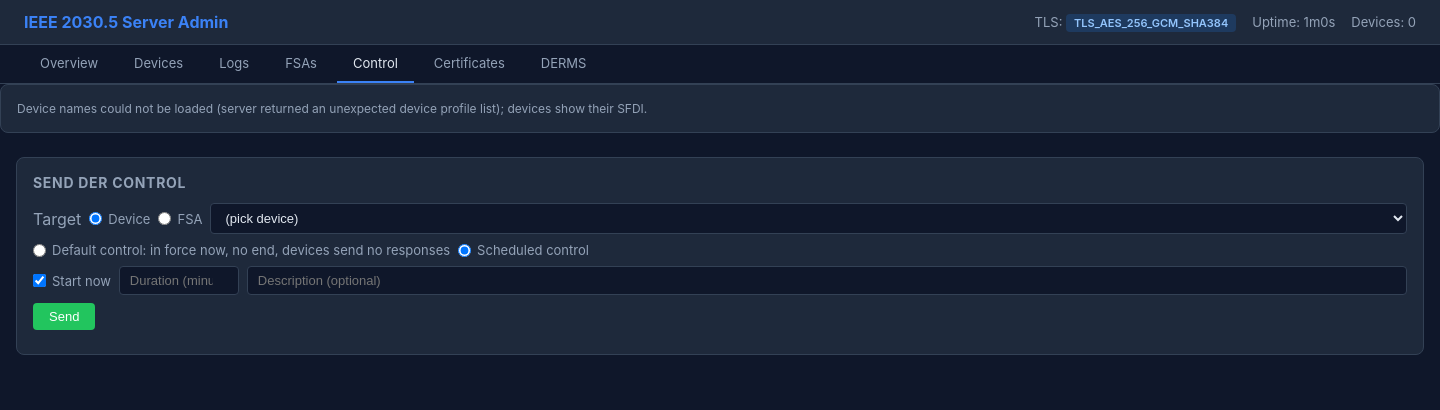
FSAs on the Control tab › a hard load onto the Control tab offers the FSAs
Check: the dropdown with id "controlDevice" is shown, box [210,203,1407,234]
Click the radio button with test id "control-target-fsa": (165, 218) [158,212,172,225]
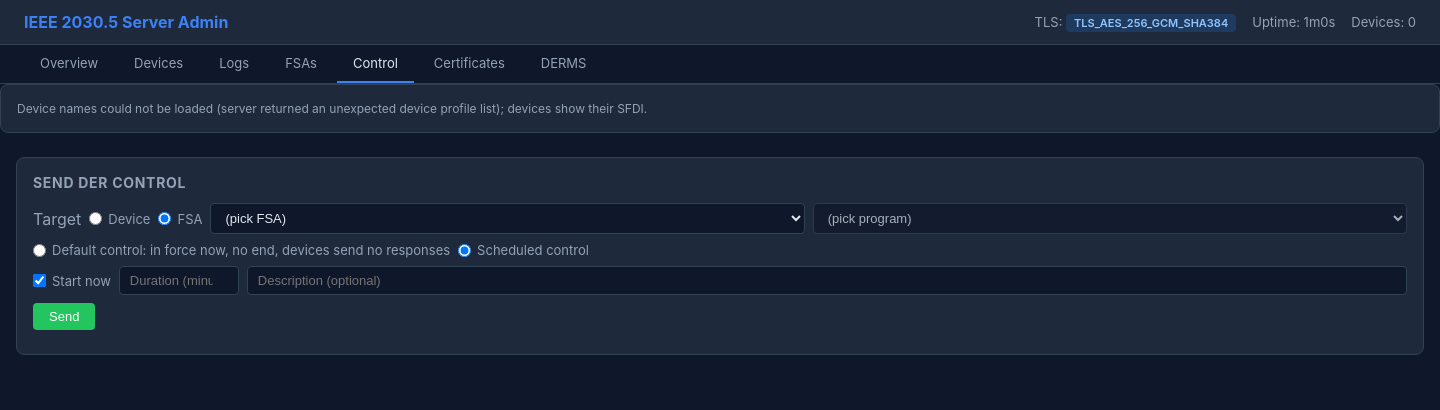
Select "feeder A" in the dropdown with id "controlFsa": (508, 218) [210,203,805,234]
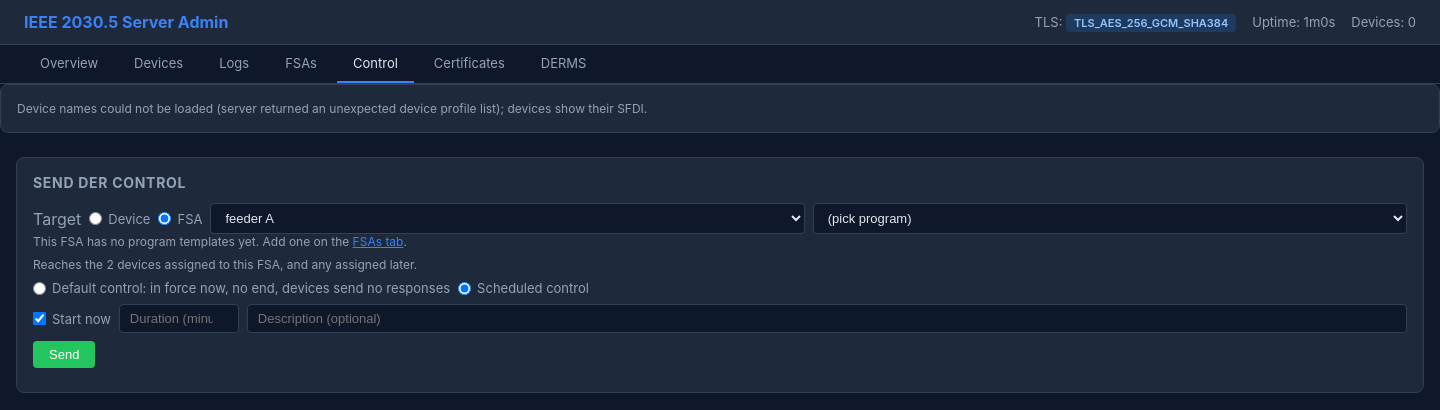
Check: the text with test id "fsa-control-reach" shows "Reaches the 2 devices", box [33,257,417,272]
